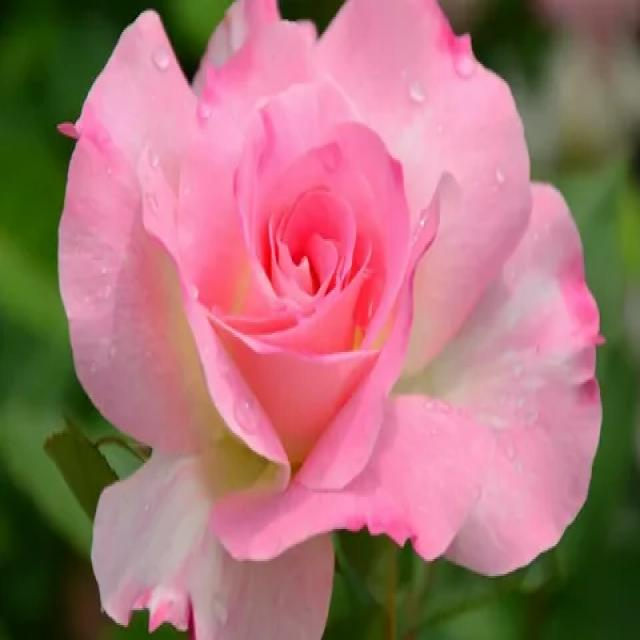rose: (51, 0, 611, 640)
